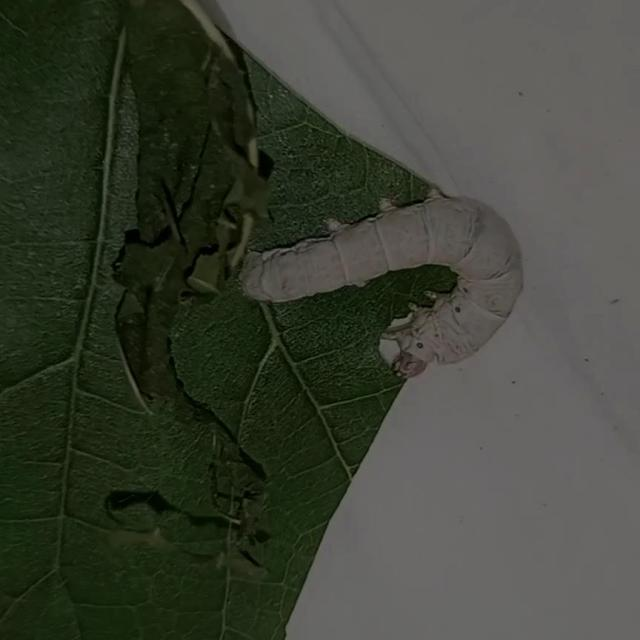Healthy: (232, 187, 532, 390)
